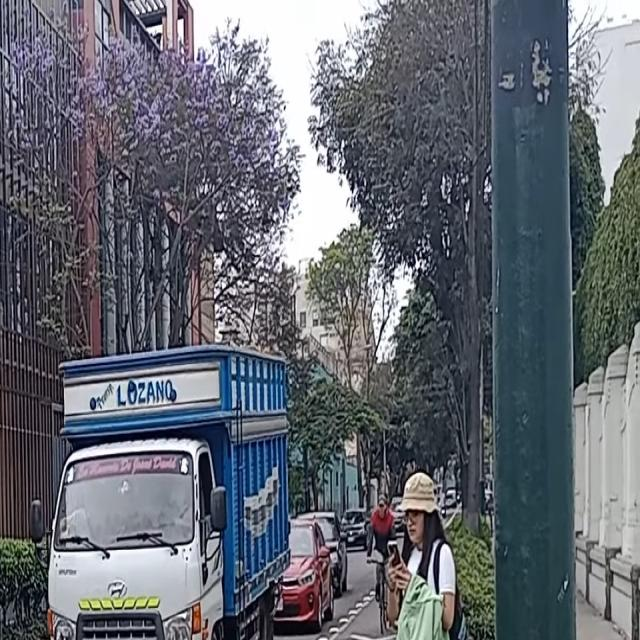bicycle: (367, 550, 392, 638)
car: (272, 518, 334, 625), (338, 508, 372, 547)
truck: (44, 349, 286, 640)
